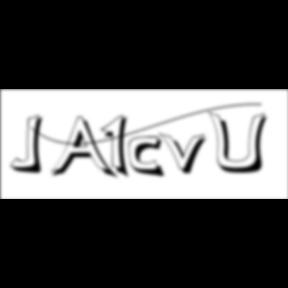1: (100, 114, 136, 182)
A: (50, 116, 120, 182)
J: (11, 114, 50, 176)
U: (208, 110, 274, 176)
c: (130, 136, 170, 180)
v: (159, 131, 213, 177)
